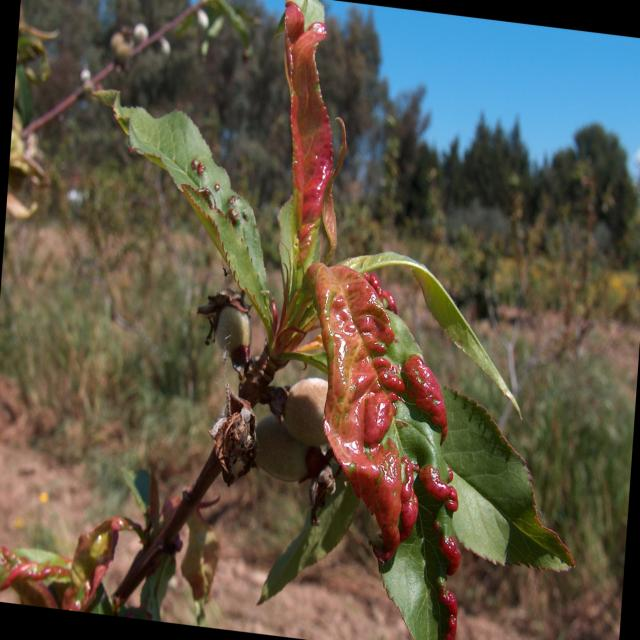peach_leaf_curl: (280, 30, 492, 619)
